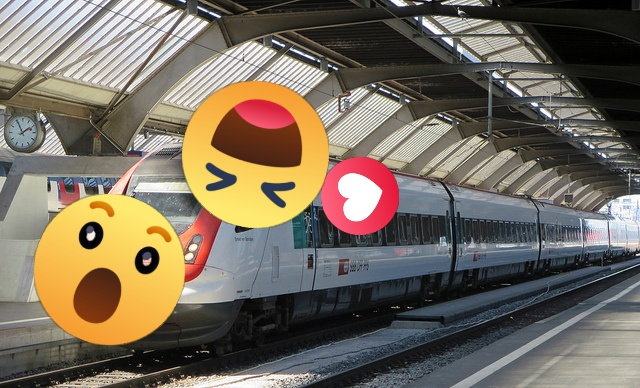haha: (182, 81, 329, 228)
love: (321, 157, 399, 235)
wow: (34, 194, 185, 345)
